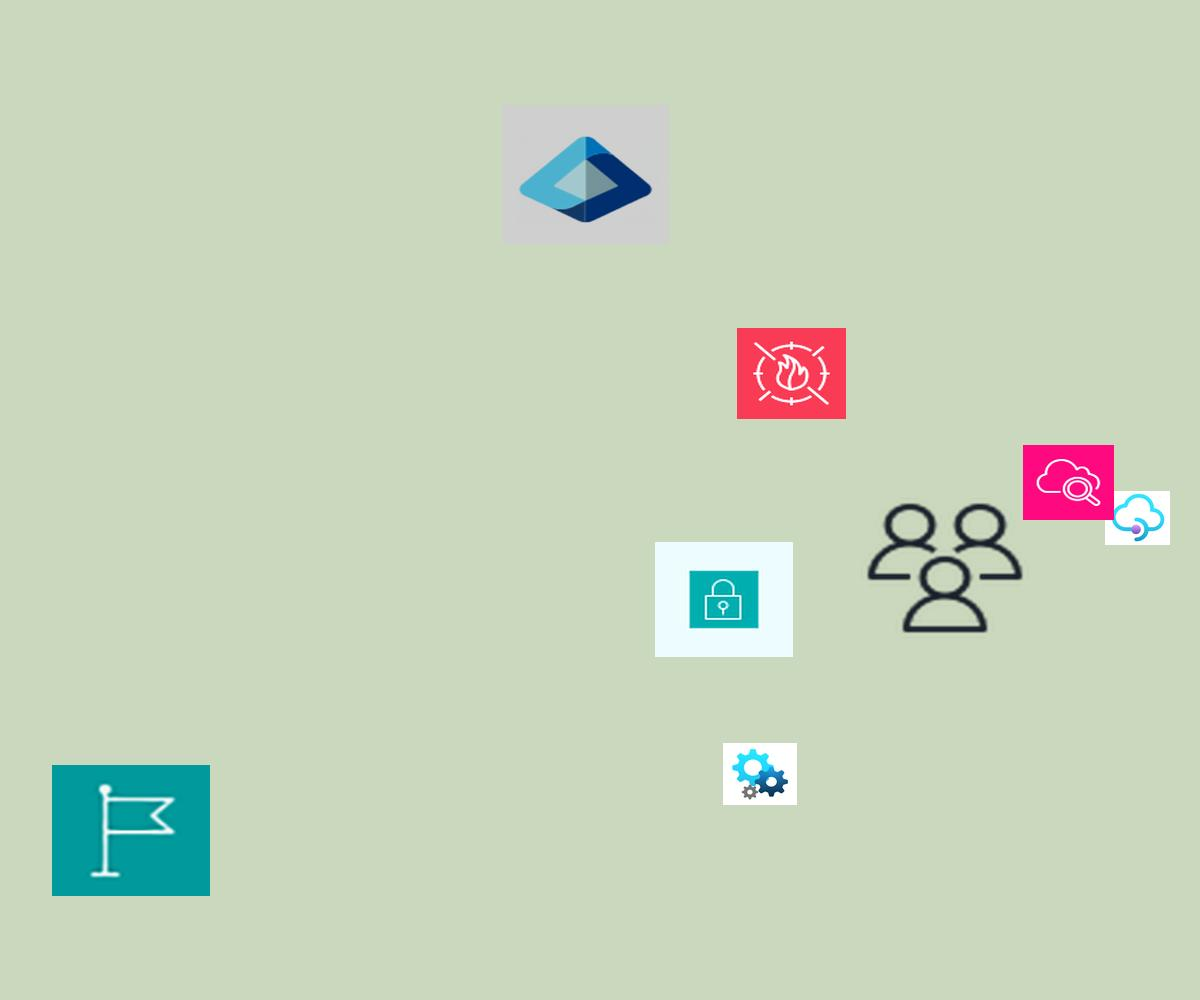AWS-CloudWatch: (1023, 445, 1114, 520)
AWS-Private-subnet: (655, 542, 793, 657)
AWS-Region: (52, 765, 210, 896)
AWS-Res_Users: (861, 498, 1029, 638)
AWS-WAF: (737, 328, 846, 419)
Azure_api: (723, 743, 797, 805)
Azure_api_gateway: (1105, 491, 1170, 545)
Azure_microsoft_entra: (502, 105, 669, 244)
